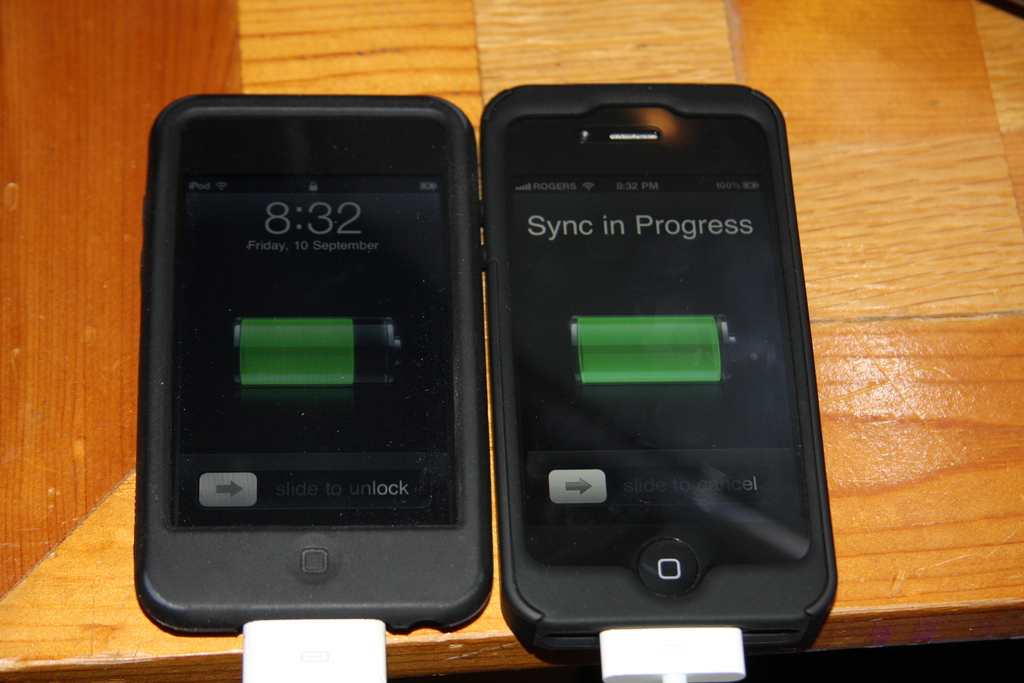Mobile-phone: (477, 85, 837, 636), (131, 92, 486, 641)
